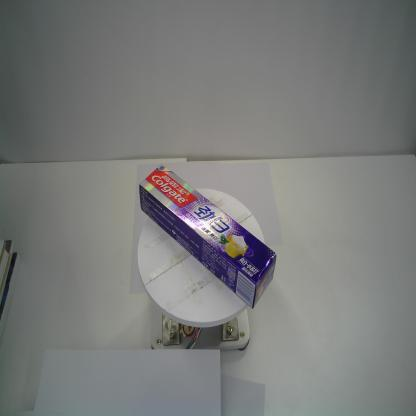Personal Hygiene: (138, 162, 278, 310)
